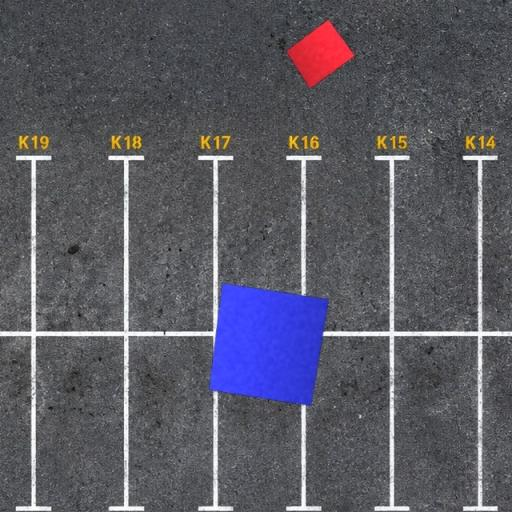BLUE_SQUARE: (208, 282, 330, 406)
RED_SQUARE: (285, 18, 355, 90)
